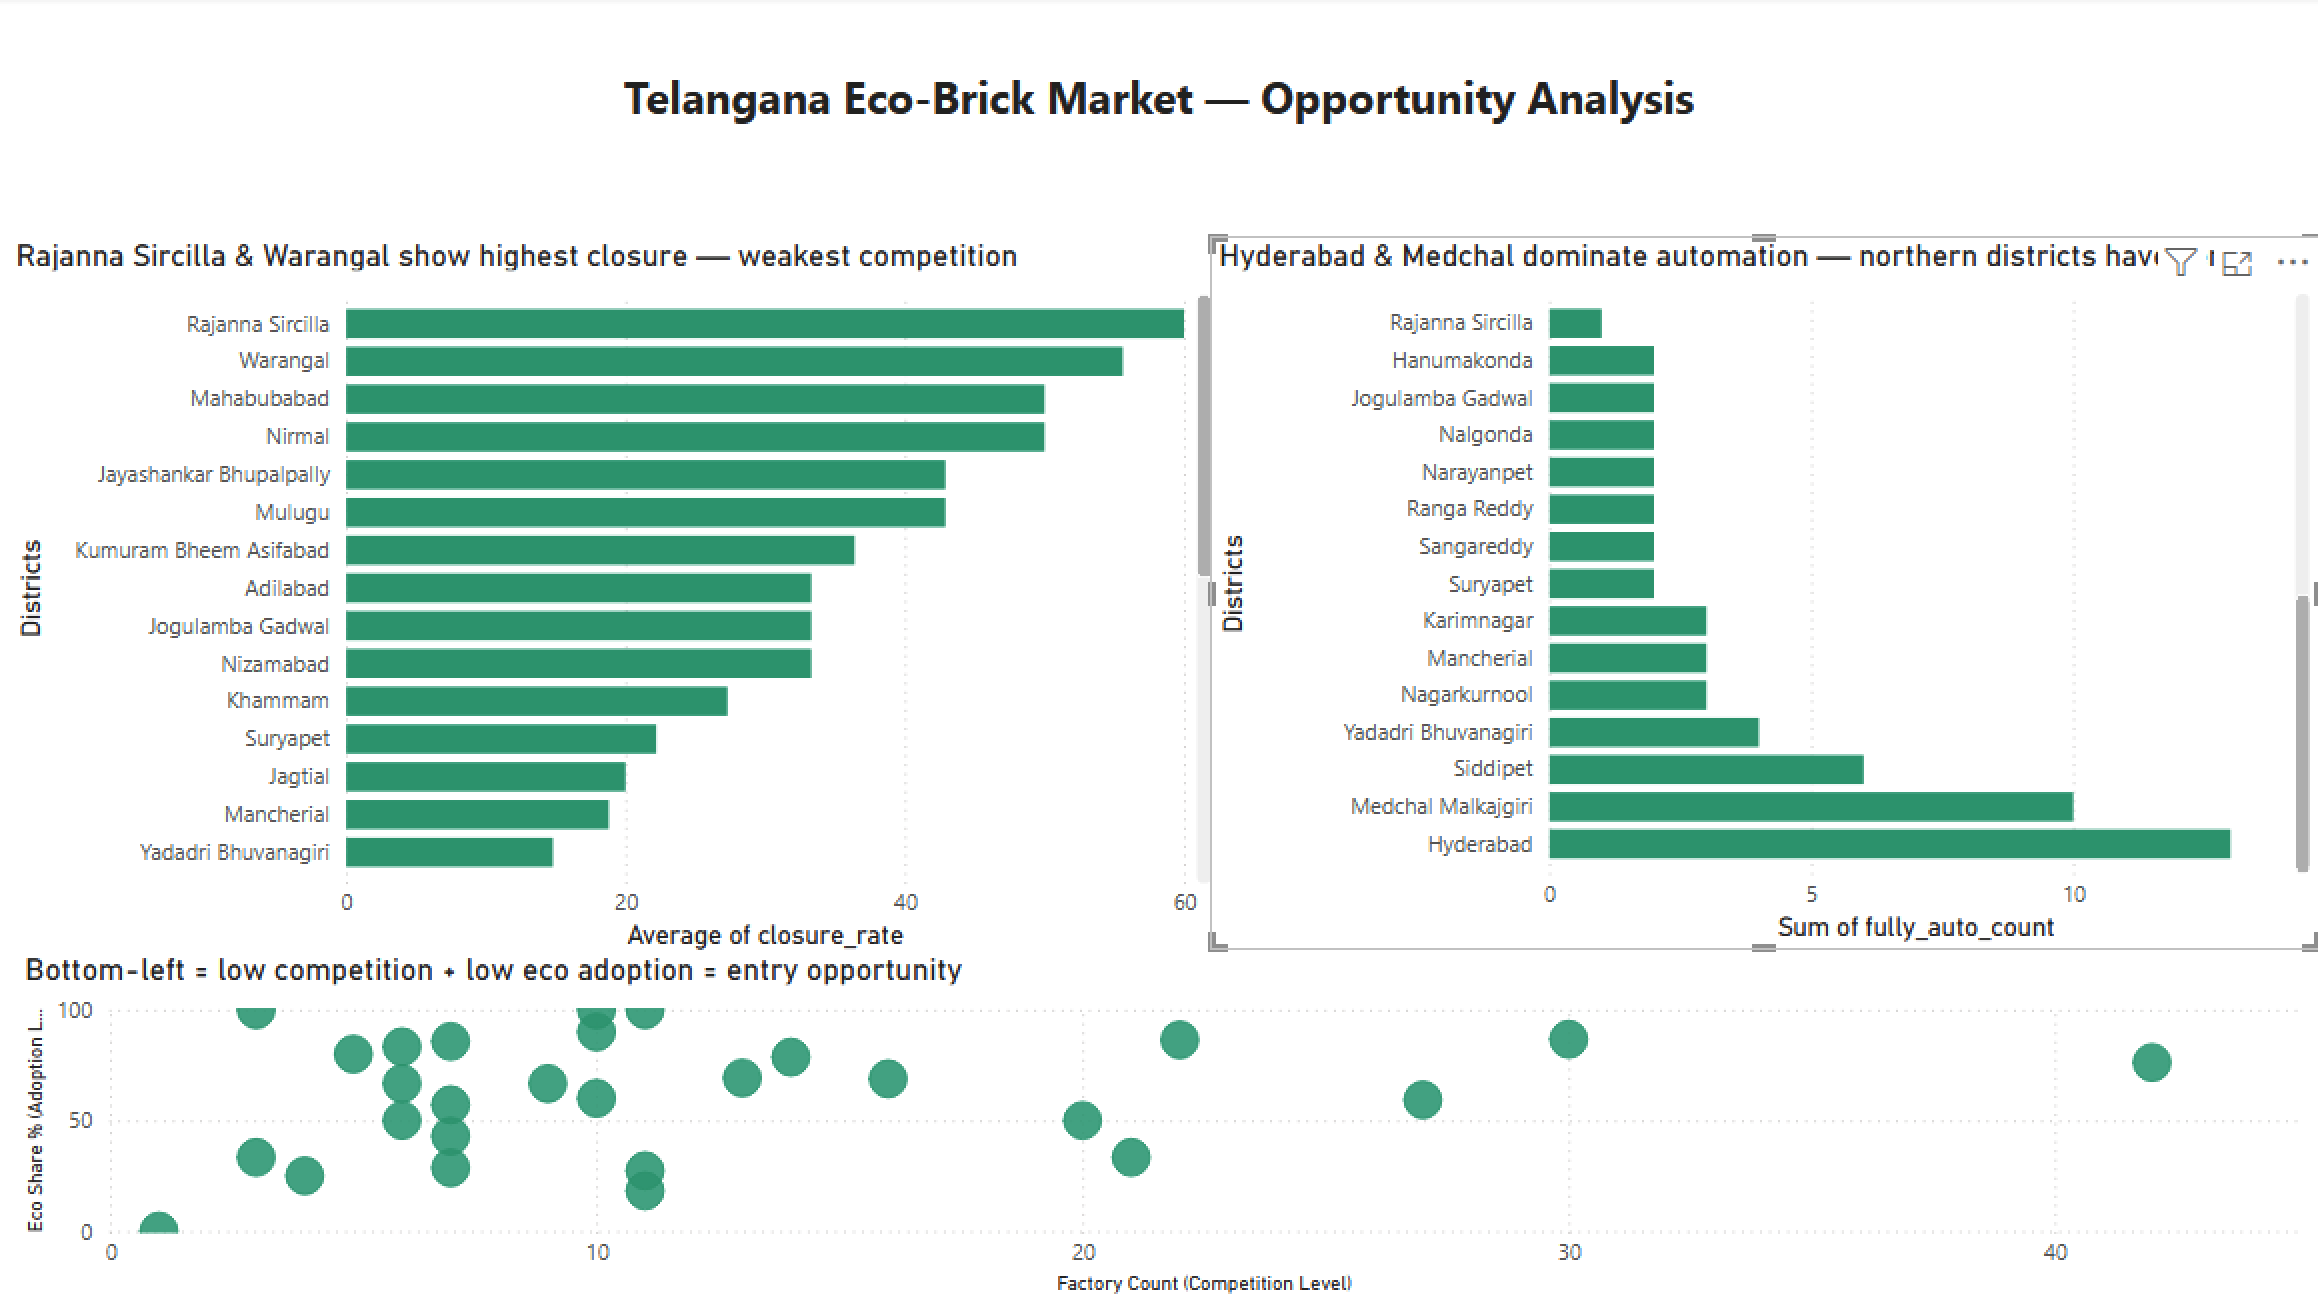

The dashboard page shown, as its layout file describes it:
{"tool":"powerbi","page":{"name":"Opportunity","canvas":[1280,720],"ordinal":2},"visuals":[{"type":"clusteredBarChart","title":"Closure Rate by District %","fields":{"Category":["brick_district_summary.Districts"],"Y":["Avg(brick_district_summary.closure_rate)"]},"box":[10,0,666,526],"z":0},{"type":"clusteredBarChart","title":"Modernization Gap by District","fields":{"Category":["brick_district_summary.Districts"],"Y":["Sum(brick_district_summary.fully_auto_count)"]},"box":[586,0,694,526],"z":1},{"type":"scatterChart","title":"Opportunity Quadrant","fields":{"X":["brick_district_summary.factory_count"],"Y":["brick_district_summary.eco_share"]},"box":[10,526,1270,194],"z":2}]}

Visuals, with their boxes in screenshot pixels (x1, y1, x2, y2), scaled from the page's 1280x720 canvas onto the 2318x1298 screenshot:
"Closure Rate by District %" clusteredBarChart: (x1=18, y1=0, x2=1224, y2=948)
"Modernization Gap by District" clusteredBarChart: (x1=1061, y1=0, x2=2317, y2=948)
"Opportunity Quadrant" scatterChart: (x1=18, y1=948, x2=2317, y2=1297)
